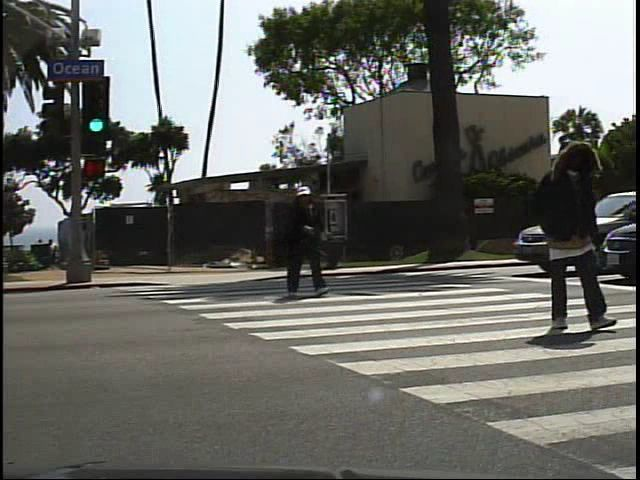person: (529, 137, 620, 347), (277, 180, 333, 303)
